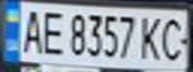3: (84, 11, 106, 57)
5: (103, 12, 121, 59)
7: (118, 12, 139, 60)
8: (63, 9, 87, 57)
A: (15, 6, 48, 54)
C: (154, 14, 190, 62)
E: (36, 7, 69, 56)
K: (136, 12, 166, 61)
